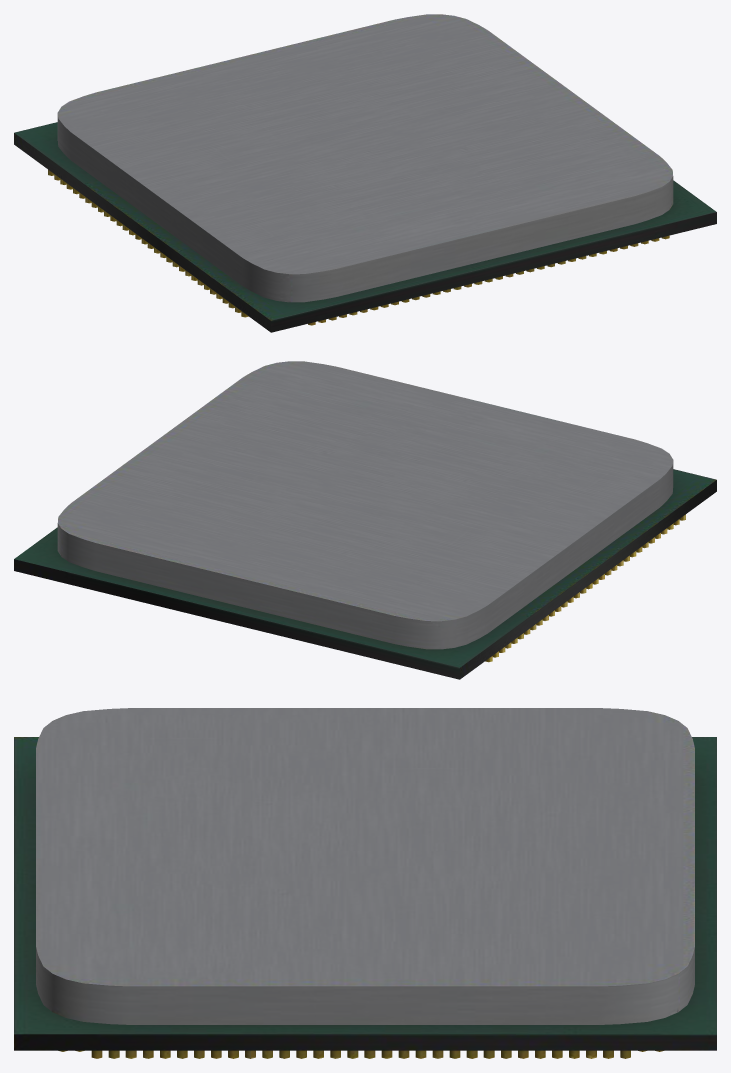
The model's file is cpu.glb.
3 views of the same model, one above another, from view 1: azimuth 30°, elevation 25°; view 2: azimuth 150°, elevation 25°; view 3: azimuth 270°, elevation 25° (orthographic). The views are drawn at different scales.
Visible parts, largest first — view 1: defaultMaterial; view 2: defaultMaterial; view 3: defaultMaterial.
Boxes of the visible parts, x1,y1,x2,y2 form: defaultMaterial: (14,14,716,332); defaultMaterial: (14,361,716,679); defaultMaterial: (14,708,716,1058).
Size of the model in its own units: 24.26 by 2.4 by 24.24.
1 material, 1 textured.
